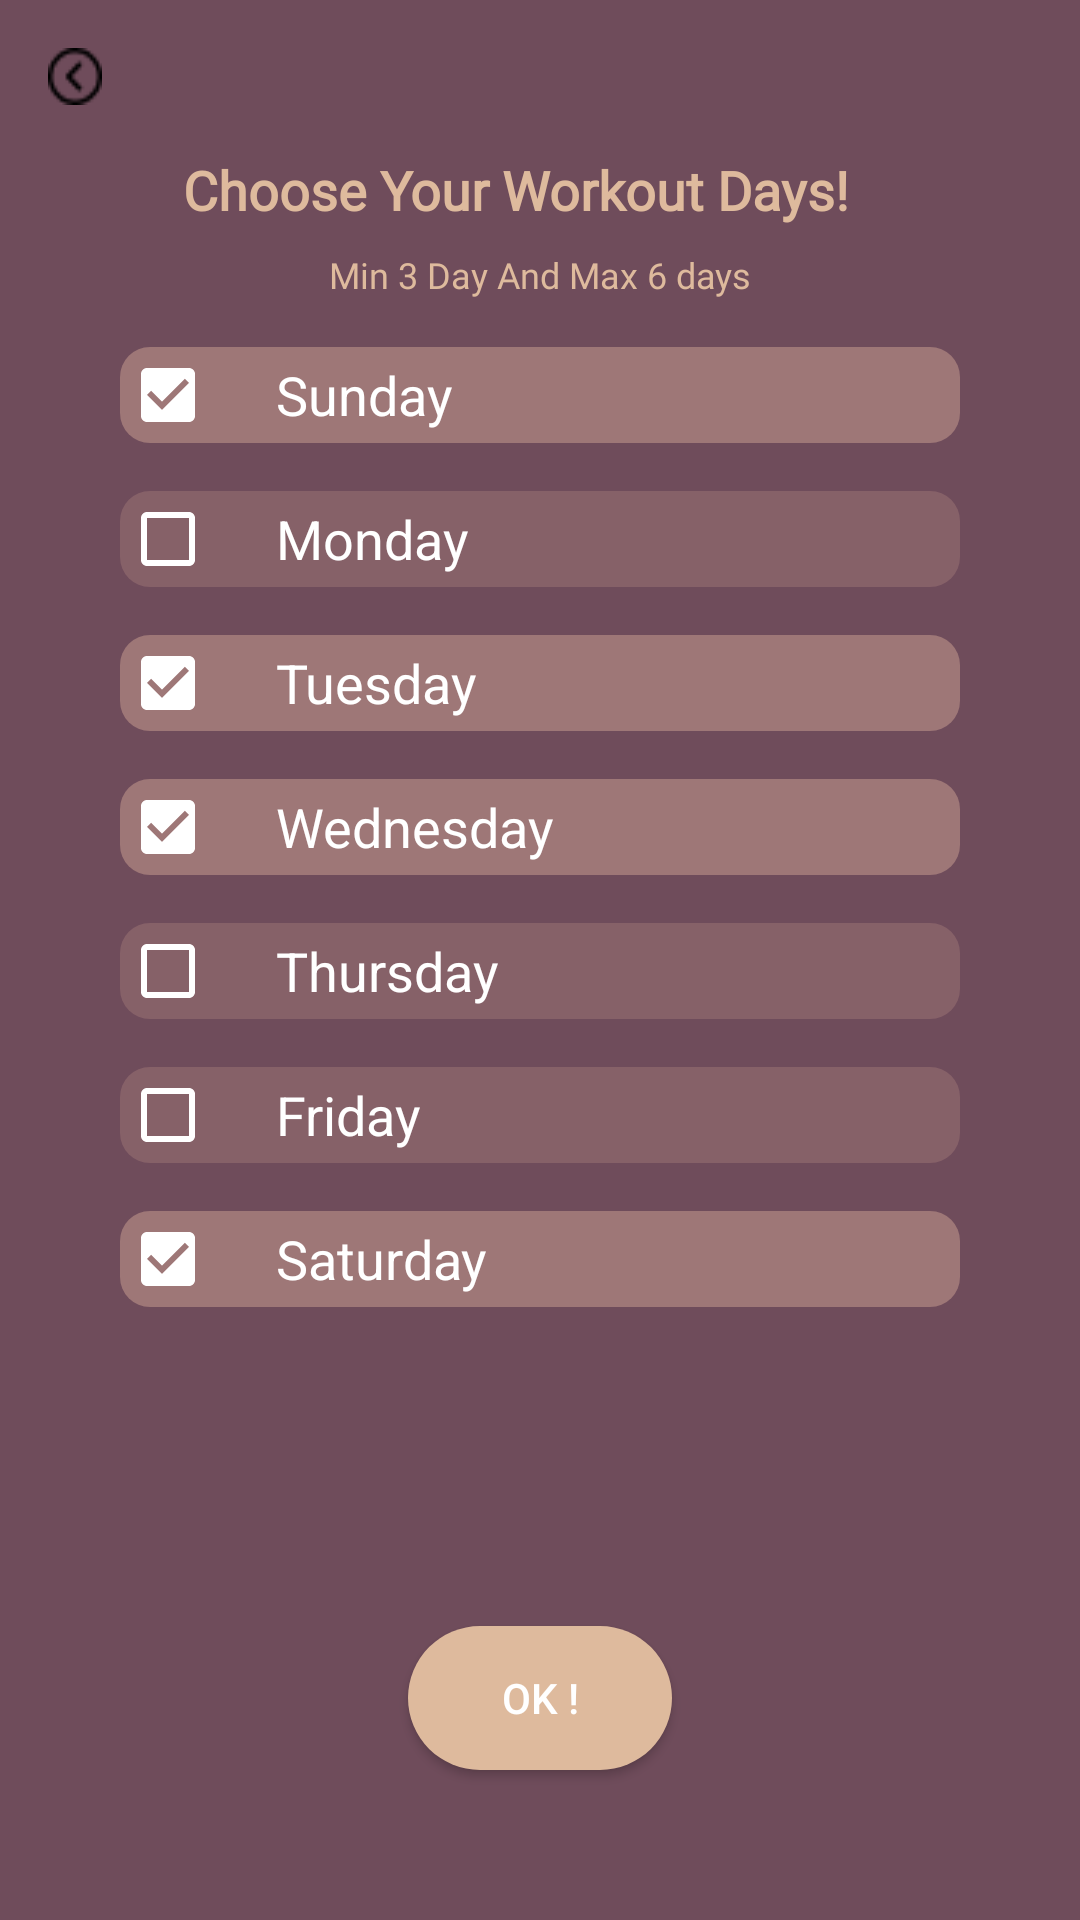

Icons on this 1080 x 1920 Android screen, each with its box as (x1,y1,x2,y2):
previous: (48,48,102,105)
